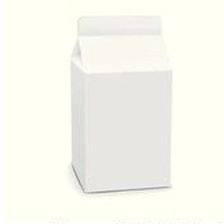carton: (63, 8, 176, 198)
